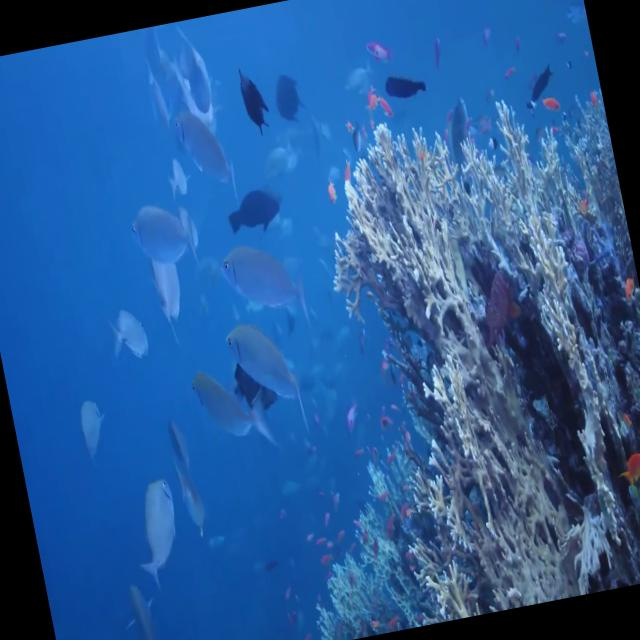fish: (217, 308, 321, 440), (212, 226, 314, 336), (119, 468, 191, 600), (188, 355, 276, 462), (118, 186, 208, 274), (170, 94, 238, 201), (156, 407, 213, 532), (216, 178, 292, 249), (170, 16, 222, 116), (228, 54, 280, 151), (100, 290, 155, 372), (118, 574, 171, 640), (71, 386, 115, 462), (378, 62, 430, 114), (520, 56, 560, 107), (614, 444, 640, 498), (358, 33, 396, 69), (615, 265, 640, 319)
